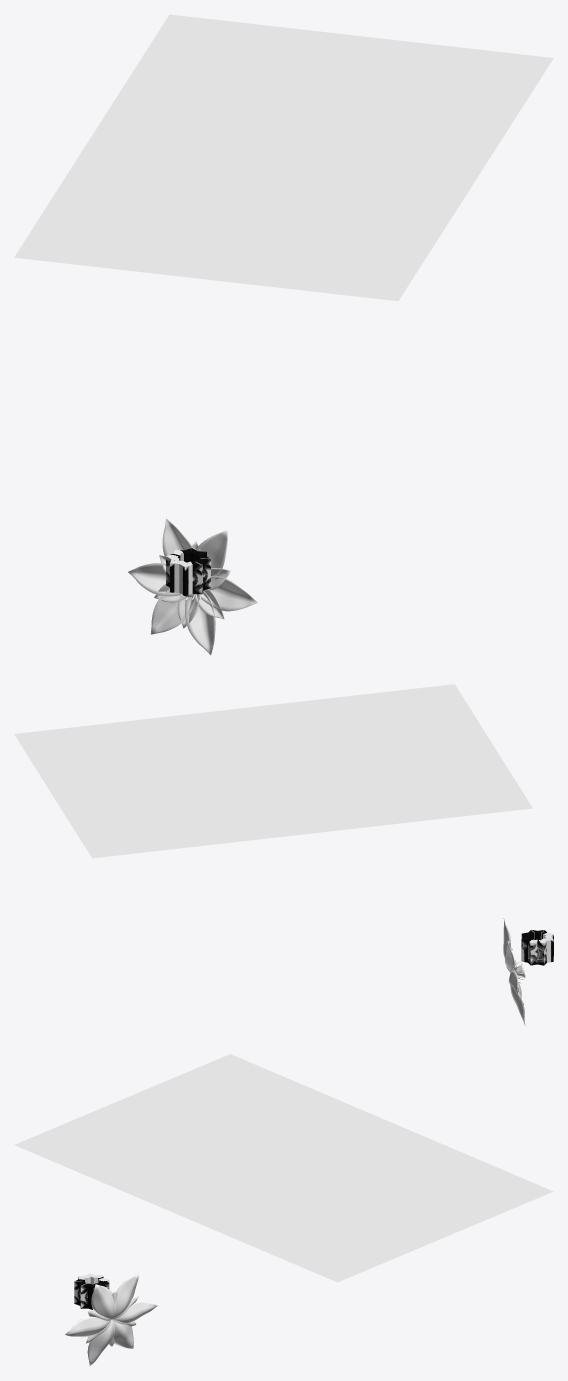
The model's file is Main Flower Plants_6_Flower.fbx.
The picture shows the model from 3 angles, top to bottom: view 1: azimuth 30°, elevation 25°; view 2: azimuth 150°, elevation 25°; view 3: azimuth 270°, elevation 25°; orthographic projection. The views are drawn at different scales.
Parts seen in each view (by area): view 1: Gradient Glow, petals_msh, Whitebox_Plinth (2); view 2: Gradient Glow, Whitebox_Plinth (2), petals_msh; view 3: Gradient Glow, petals_msh, Whitebox_Plinth (2).
Part boxes in pixels (left/top/right/bottom): Gradient Glow: left=14, top=14, right=553, bottom=301; petals_msh: left=128, top=518, right=257, bottom=654; Whitebox_Plinth (2): left=166, top=548, right=210, bottom=595; Gradient Glow: left=14, top=684, right=532, bottom=858; Whitebox_Plinth (2): left=521, top=929, right=553, bottom=965; petals_msh: left=503, top=918, right=525, bottom=1025; Gradient Glow: left=14, top=1054, right=553, bottom=1282; petals_msh: left=65, top=1273, right=157, bottom=1366; Whitebox_Plinth (2): left=74, top=1273, right=109, bottom=1309.
Bounding box in the file's own units: 35.37 × 19.76 × 35.34.
